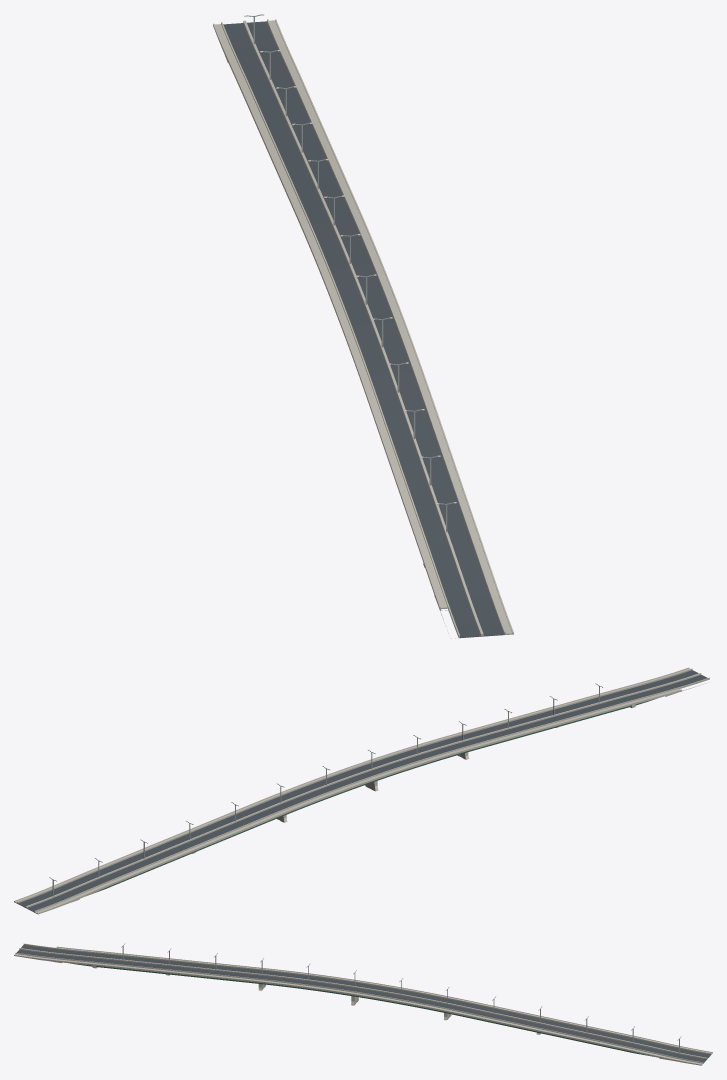
Rendered from pont-dubuc-far.glb.
3 renders of one model, top to bottom at view 1: azimuth 30°, elevation 25°; view 2: azimuth 150°, elevation 25°; view 3: azimuth 270°, elevation 25°, orthographic. The views are drawn at different scales.
Visible parts, largest first — view 1: pont-dubuc-0-asphalt, pont-dubuc-0-concrete, pont-dubuc-0-rail; view 2: pont-dubuc-0-concrete, pont-dubuc-0-asphalt, pont-dubuc-0-steel, pont-dubuc-0-rail; view 3: pont-dubuc-0-concrete, pont-dubuc-0-asphalt, pont-dubuc-0-steel, pont-dubuc-0-rail.
Boxes of the visible parts, bbox=[...] form: pont-dubuc-0-asphalt: bbox=[223, 21, 504, 637]; pont-dubuc-0-concrete: bbox=[213, 19, 513, 638]; pont-dubuc-0-rail: bbox=[247, 14, 453, 532]; pont-dubuc-0-concrete: bbox=[14, 667, 709, 914]; pont-dubuc-0-asphalt: bbox=[17, 670, 707, 912]; pont-dubuc-0-steel: bbox=[87, 698, 656, 895]; pont-dubuc-0-rail: bbox=[50, 684, 601, 896]; pont-dubuc-0-concrete: bbox=[14, 943, 712, 1065]; pont-dubuc-0-asphalt: bbox=[17, 945, 710, 1063]; pont-dubuc-0-steel: bbox=[70, 963, 652, 1056]; pont-dubuc-0-rail: bbox=[122, 944, 680, 1052].
Size of the model in its own units: 206 by 24.51 by 497.
